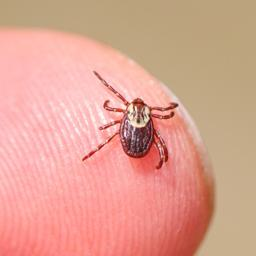Dermacentor variabilis: (81, 68, 181, 171)
